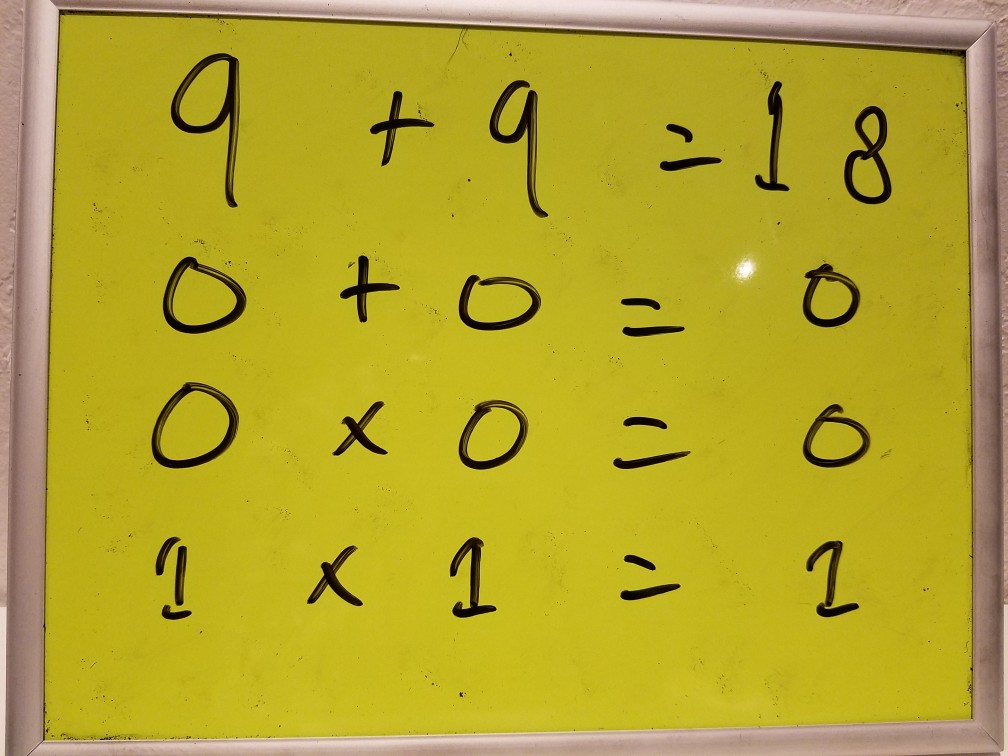+: (364, 83, 435, 169), (333, 246, 406, 327)
0: (142, 377, 240, 471), (157, 248, 251, 340), (454, 264, 547, 340), (450, 392, 534, 473), (797, 397, 879, 477), (798, 258, 865, 338)
1: (142, 526, 209, 634), (745, 69, 800, 199), (798, 532, 868, 627), (441, 530, 503, 628)
8: (839, 99, 900, 213)
9: (164, 47, 256, 213), (483, 71, 557, 223)
=: (605, 405, 695, 480), (609, 285, 693, 346), (613, 544, 687, 611), (653, 113, 726, 180)
x: (298, 538, 365, 622), (326, 395, 397, 464)
